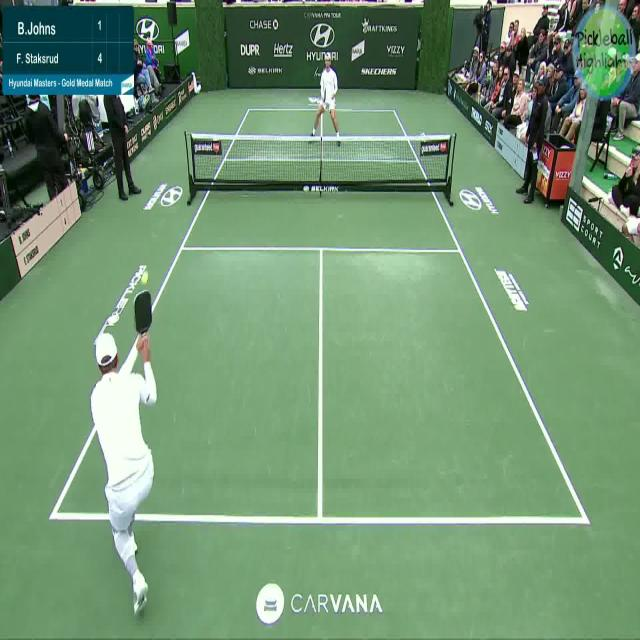ball: (139, 267, 151, 288)
